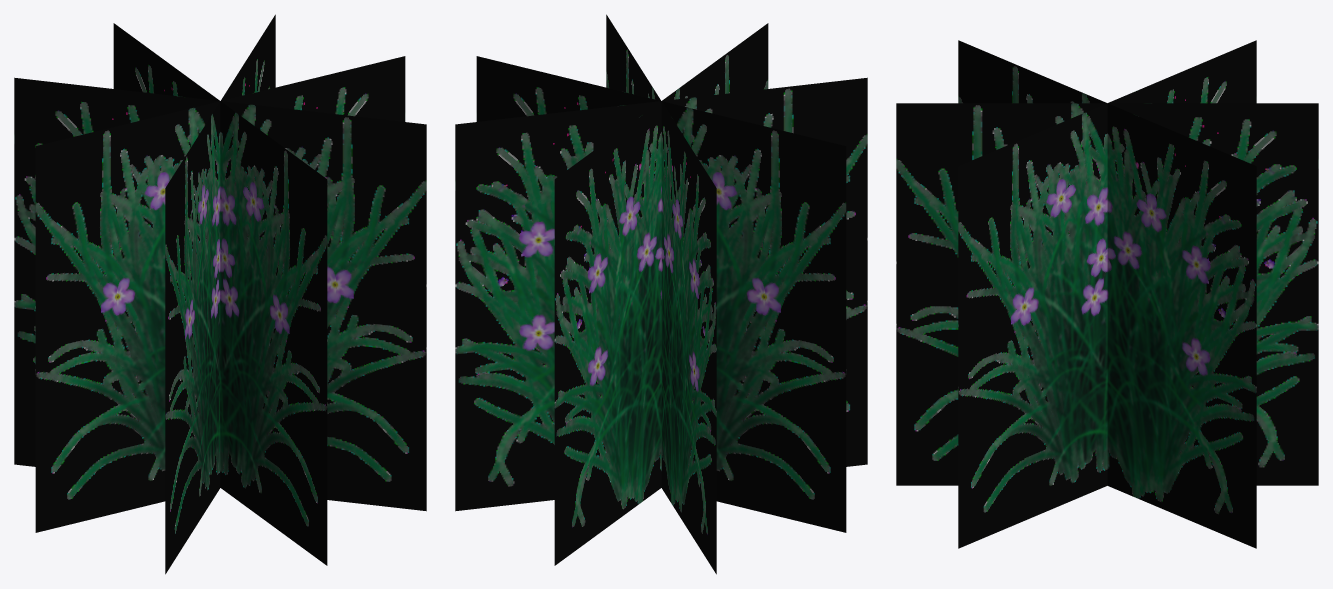
Rendered from GRASS.fbx.
The picture shows the model from 3 angles, left to right: view 1: azimuth 30°, elevation 25°; view 2: azimuth 150°, elevation 25°; view 3: azimuth 270°, elevation 25°; orthographic projection.
Parts seen in each view (by area): view 1: pPlane2, pPlane4, pPlane1, pPlane3; view 2: pPlane2, pPlane3, pPlane1, pPlane4; view 3: pPlane3, pPlane4, pPlane1.
Boxes of the visible parts, bbox=[...] form: pPlane2: bbox=[35, 56, 405, 532]; pPlane4: bbox=[14, 77, 426, 511]; pPlane1: bbox=[113, 23, 327, 565]; pPlane3: bbox=[165, 14, 275, 574]; pPlane2: bbox=[476, 56, 846, 532]; pPlane3: bbox=[455, 77, 867, 511]; pPlane1: bbox=[554, 23, 768, 565]; pPlane4: bbox=[606, 14, 716, 574]; pPlane3: bbox=[958, 40, 1256, 548]; pPlane4: bbox=[958, 40, 1256, 548]; pPlane1: bbox=[896, 103, 1318, 485].
Bounding box in the file's own units: 1 × 1 × 1.
